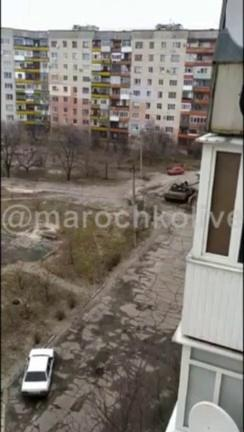car: (20, 347, 55, 402)
tank: (165, 180, 200, 202)
